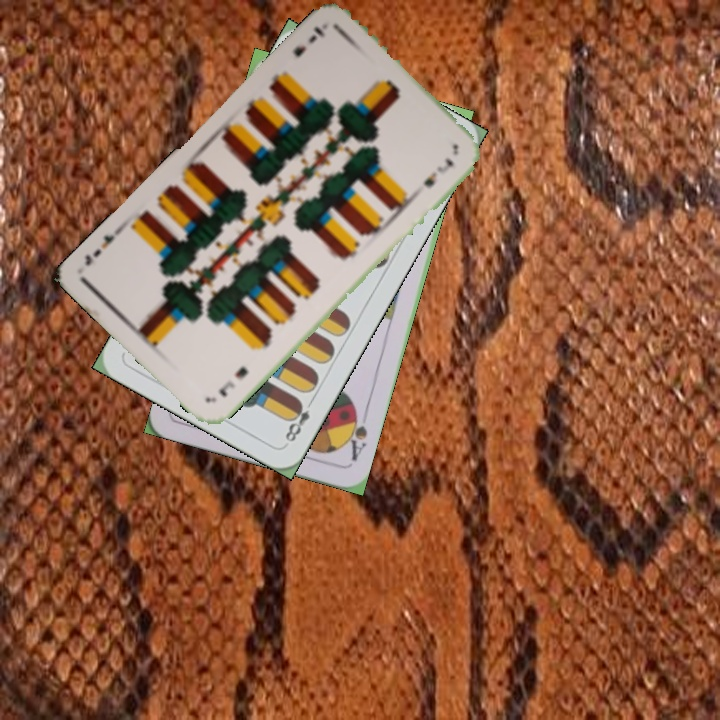E7: (289, 22, 328, 60), (214, 362, 251, 400)
E8: (281, 394, 317, 445)
SA: (340, 405, 370, 464)
